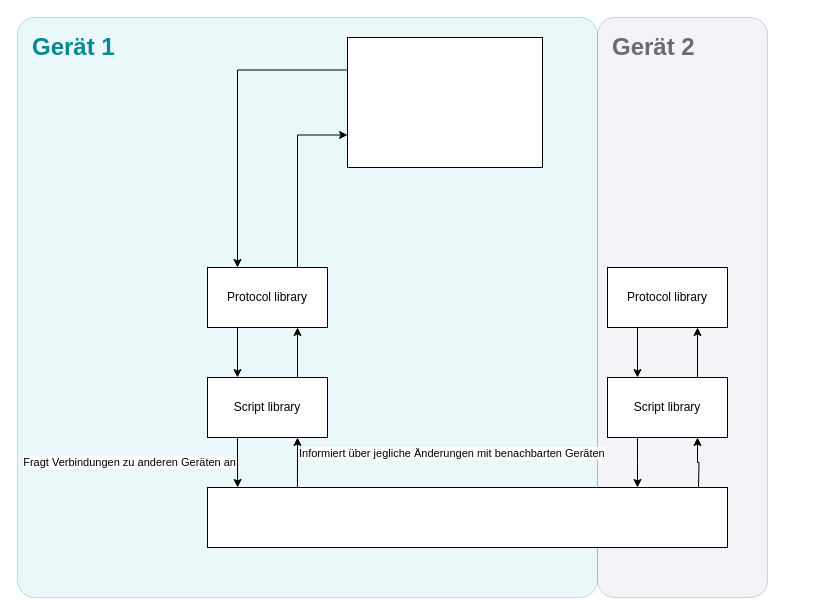
The diagram is 815 pixels wide and 615 high, and some of its shapes have lost their labels. The shapes that lost their labels are listed below. From the top down, each one's centre as x and y in pixels, then its label:
point (444, 102): "ConnectedDevicesGraph"
point (467, 517): Nearby Connections API (Teil der Google Mobile Services)
